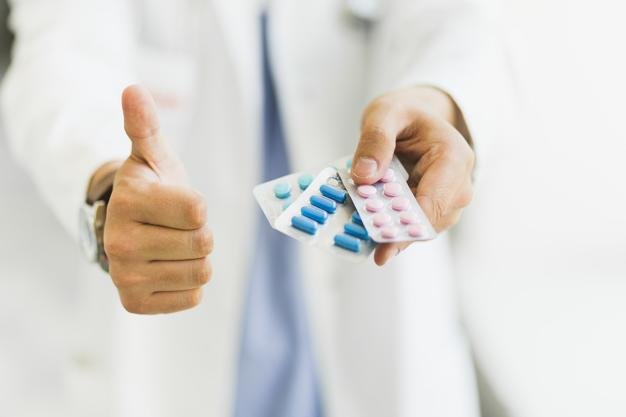thumbsup: (104, 84, 214, 315)
